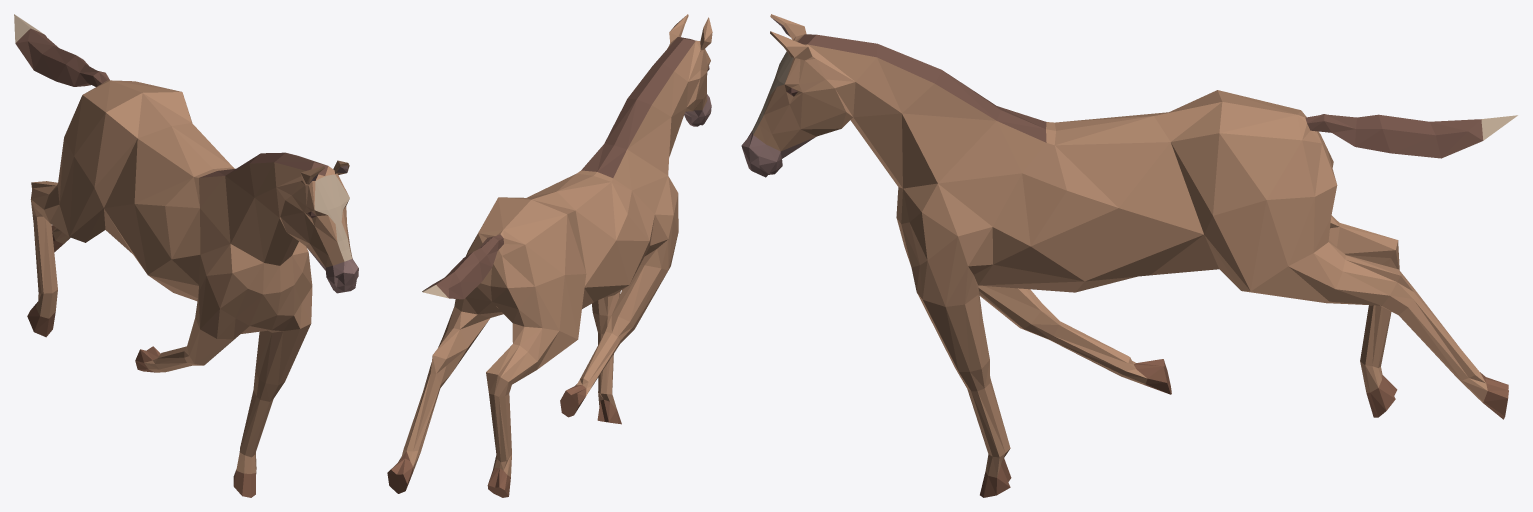
Rendered from Horse.glb.
3 views of the same model, side by side, from view 1: azimuth 30°, elevation 25°; view 2: azimuth 150°, elevation 25°; view 3: azimuth 270°, elevation 25° (orthographic). The views are drawn at different scales.
Parts seen in each view (by area): view 1: mesh_0; view 2: mesh_0; view 3: mesh_0.
Part boxes in pixels (x1,y1,x2,y2): mesh_0: [14, 14, 358, 497]; mesh_0: [387, 14, 712, 497]; mesh_0: [741, 14, 1517, 497].
Size of the model in its own units: 64.96 by 198 by 295.
